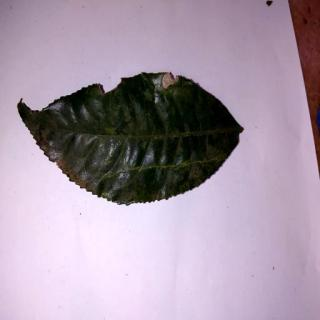Anthracnose: (16, 71, 245, 206)
